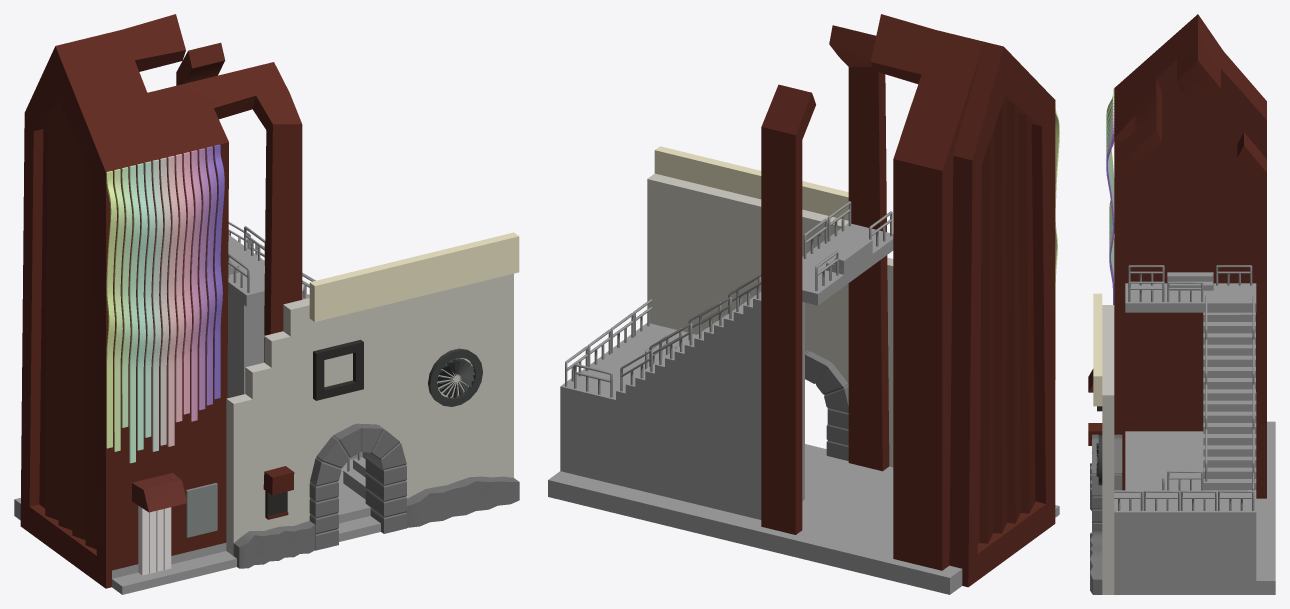
File: FirstStation.fbx
3 renders of one model, left to right at view 1: azimuth 30°, elevation 25°; view 2: azimuth 150°, elevation 25°; view 3: azimuth 270°, elevation 25°, orthographic. The views are drawn at different scales.
Parts seen in each view (by area): view 1: Object031, Object, Station_Start, Station_Start_Deco, Object023, Object029, Object015, Object027, Object019, Object017, Object025, Object021 (+1 smaller); view 2: Station_Start, Object029, Object031, Object, Station_Fence, Object015, Object023; view 3: Station_Start, Object029, Station_Fence, Object, Object023, Station_Start_Deco, Object015, Object031, Object019.
Part boxes in pixels (box(x1,y1,x2,y2)): Object031: box(20, 41, 124, 588); Object: box(226, 273, 513, 555); Station_Start: box(74, 14, 302, 567); Station_Start_Deco: box(106, 144, 224, 463); Object023: box(233, 423, 519, 568); Object029: box(14, 235, 380, 594); Object015: box(309, 232, 519, 321); Object027: box(132, 473, 187, 575); Object019: box(428, 348, 482, 406); Object017: box(313, 339, 363, 400); Object025: box(186, 483, 217, 537); Object021: box(263, 466, 294, 519); Station_Start: box(761, 14, 984, 570); Object029: box(548, 223, 1059, 594); Object031: box(949, 42, 1055, 587); Object: box(647, 173, 893, 467); Station_Fence: box(565, 201, 892, 397); Object015: box(654, 146, 848, 220); Object023: box(805, 350, 848, 460); Station_Start: box(1114, 22, 1266, 498); Object029: box(1114, 272, 1275, 594); Station_Fence: box(1114, 265, 1254, 510); Object: box(1102, 305, 1114, 594); Object023: box(1090, 434, 1122, 594); Station_Start_Deco: box(1106, 88, 1114, 304); Object015: box(1093, 293, 1102, 406); Object031: box(1114, 14, 1222, 95); Object019: box(1096, 434, 1102, 485).
Size of the model in its own units: 1212 by 1469 by 593.
